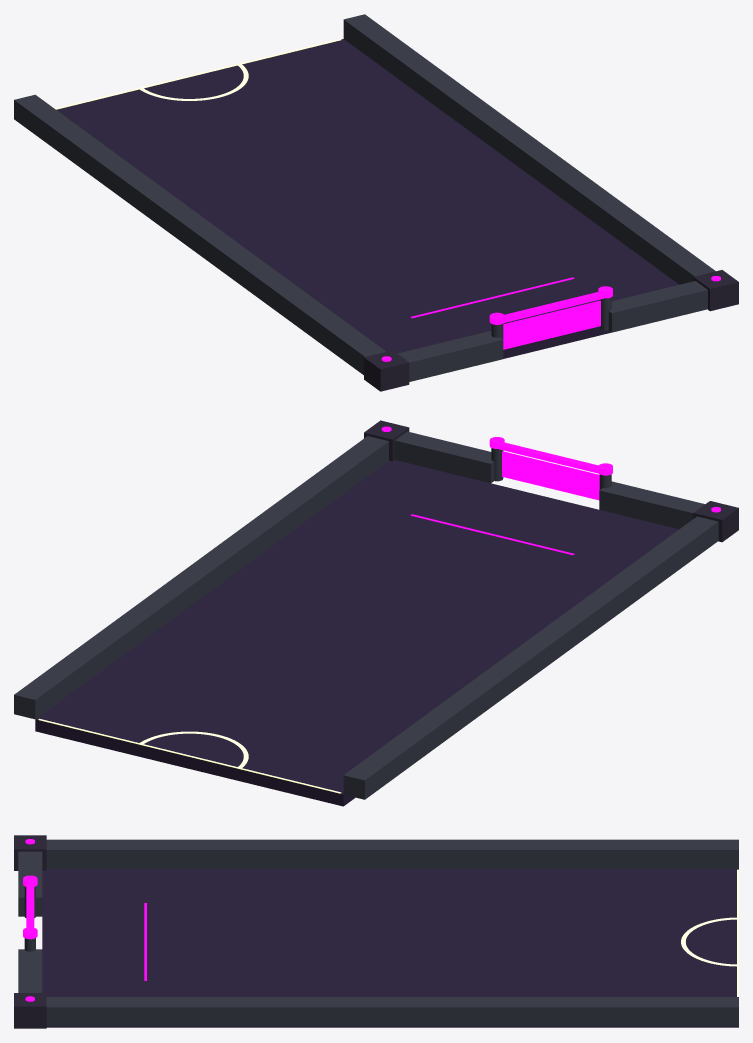
The model's file is mesa_gravity_volley_half_p2.glb.
The picture shows the model from 3 angles, top to bottom: view 1: azimuth 30°, elevation 25°; view 2: azimuth 150°, elevation 25°; view 3: azimuth 270°, elevation 25°; orthographic projection. The views are drawn at different scales.
Visible parts, largest first — view 1: VolleyHalfP2_Surface, VolleyHalfP2_RailL, VolleyHalfP2_RailR, Cube.004, Cube.002, Cube.009, Cube.006, Cube.007, Cube.008, VolleyHalfP2_TopEdgeLaser; view 2: VolleyHalfP2_Surface, VolleyHalfP2_RailL, VolleyHalfP2_RailR, Cube.004, Cube.002, Cube.009, Cube.006, Cube.008, Cube.007, VolleyHalfP2_TopEdgeLaser; view 3: VolleyHalfP2_Surface, VolleyHalfP2_RailL, VolleyHalfP2_RailR, Cube.002, Cube.007, Cube.004, Cube.006, VolleyHalfP2_CenterArcOuter, Cube.008.
Part boxes in pixels (<box>): VolleyHalfP2_Surface: <box>56,39,678,358</box>; VolleyHalfP2_RailL: <box>14,94,385,374</box>; VolleyHalfP2_RailR: <box>343,14,715,284</box>; Cube.004: <box>608,281,707,332</box>; Cube.002: <box>397,331,503,381</box>; Cube.009: <box>503,300,600,349</box>; Cube.006: <box>364,350,409,391</box>; Cube.007: <box>693,270,738,311</box>; Cube.008: <box>504,292,603,322</box>; VolleyHalfP2_TopEdgeLaser: <box>55,39,341,109</box>; VolleyHalfP2_Surface: <box>35,460,678,806</box>; VolleyHalfP2_RailL: <box>343,516,718,799</box>; VolleyHalfP2_RailR: <box>14,436,388,719</box>; Cube.004: <box>395,431,494,483</box>; Cube.002: <box>599,481,704,529</box>; Cube.009: <box>502,451,599,500</box>; Cube.006: <box>693,501,738,542</box>; Cube.008: <box>499,442,598,473</box>; Cube.007: <box>364,420,409,461</box>; VolleyHalfP2_TopEdgeLaser: <box>38,718,341,793</box>; VolleyHalfP2_Surface: <box>42,869,738,1027</box>; VolleyHalfP2_RailL: <box>46,839,738,868</box>; VolleyHalfP2_RailR: <box>46,997,738,1026</box>; Cube.002: <box>18,851,42,916</box>; Cube.007: <box>14,993,46,1028</box>; Cube.004: <box>18,949,42,992</box>; Cube.006: <box>14,835,46,870</box>; VolleyHalfP2_CenterArcOuter: <box>681,917,736,966</box>; Cube.008: <box>26,884,34,927</box>.
Bounding box in the file's own units: 1.26 × 0.17 × 2.25.
